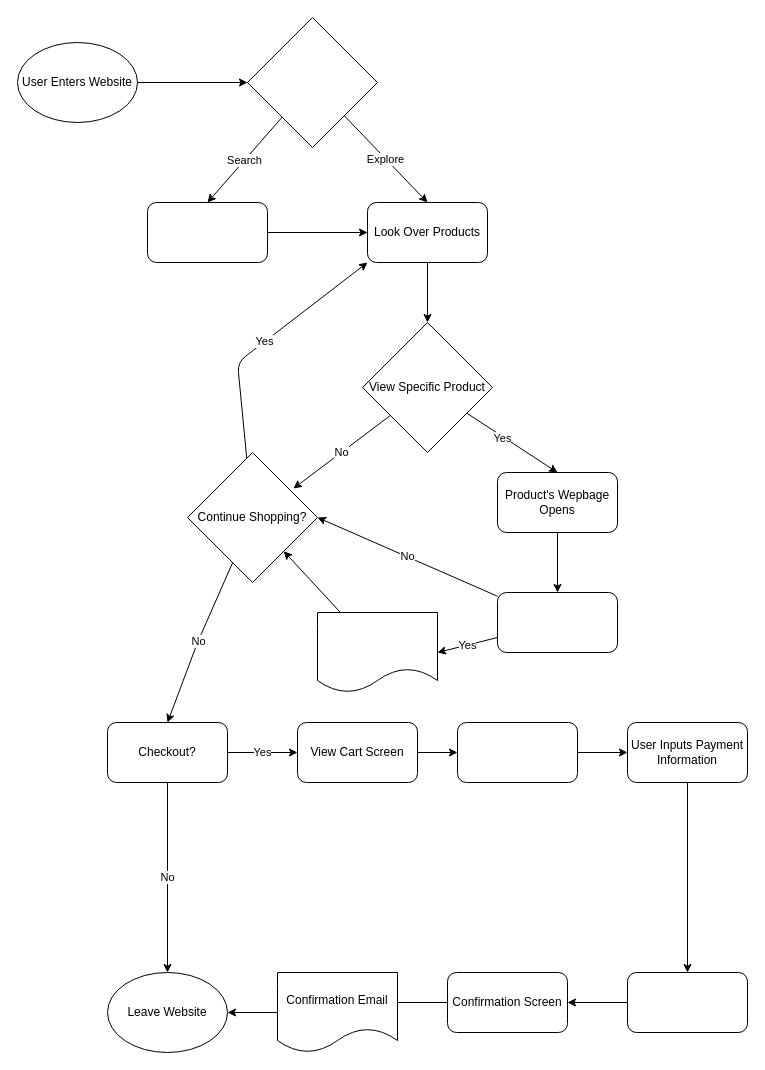
The diagram is 765 pixels wide and 1070 high, and some of its shapes have lost their labels. The shapes that lost their labels are listed below. From the top down, each one's centre as x and y in pixels, then its label:
(312,82): Search or Explore?
(207,232): Provide Search Input
(557,622): Add Item to Cart?
(377,652): Cart Confirmation
(517,752): View Payment Screen
(687,1002): User Pays
